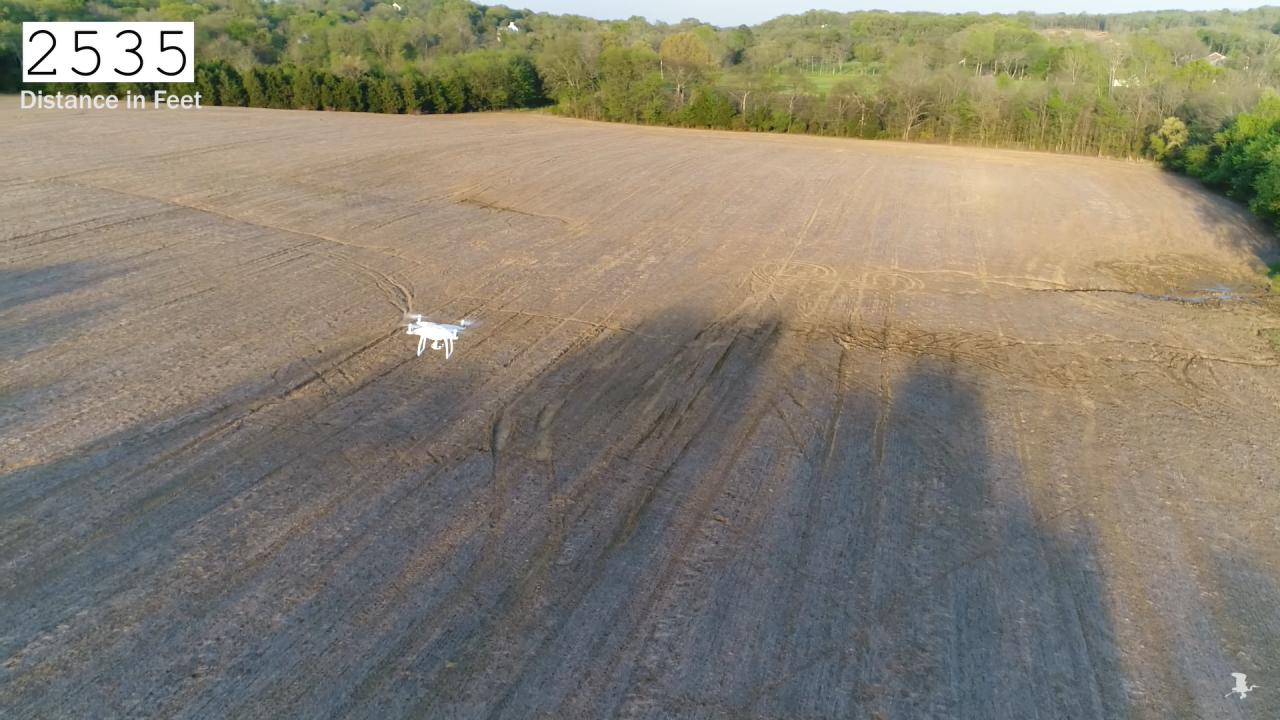Drone: (392, 305, 482, 365)
